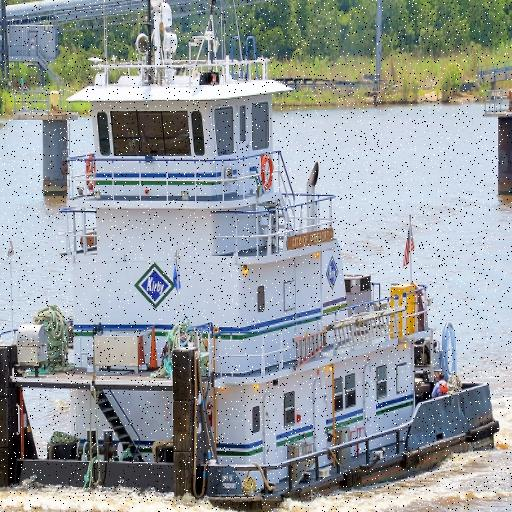tugboat: (1, 51, 505, 512)
